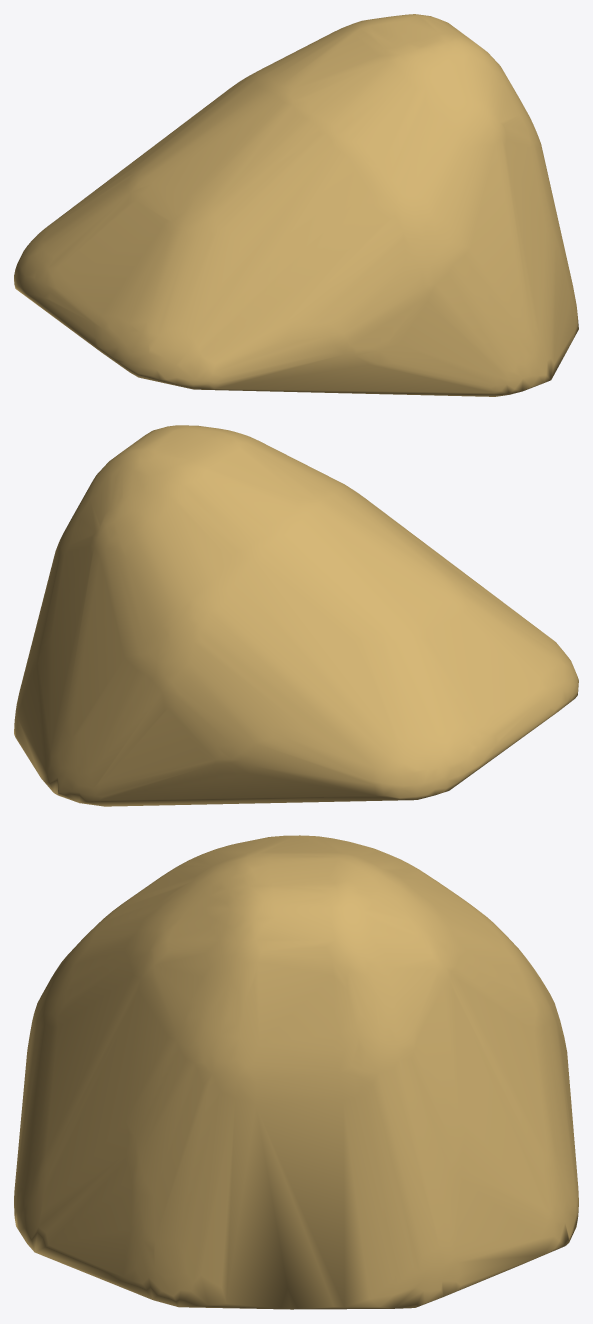
File: adrenal-closeup.glb
3 views of the same model, one above another, from view 1: azimuth 30°, elevation 25°; view 2: azimuth 150°, elevation 25°; view 3: azimuth 270°, elevation 25° (orthographic). The views are drawn at different scales.
Visible parts, largest first — view 1: Lux3D_Adrenal_Closeup; view 2: Lux3D_Adrenal_Closeup; view 3: Lux3D_Adrenal_Closeup.
Part boxes in pixels (left/top/right/bottom): Lux3D_Adrenal_Closeup: left=14, top=14, right=578, bottom=396; Lux3D_Adrenal_Closeup: left=14, top=425, right=578, bottom=806; Lux3D_Adrenal_Closeup: left=14, top=835, right=578, bottom=1309.
Bounding box in the file's own units: 0.2898 × 0.1657 × 0.2356.
